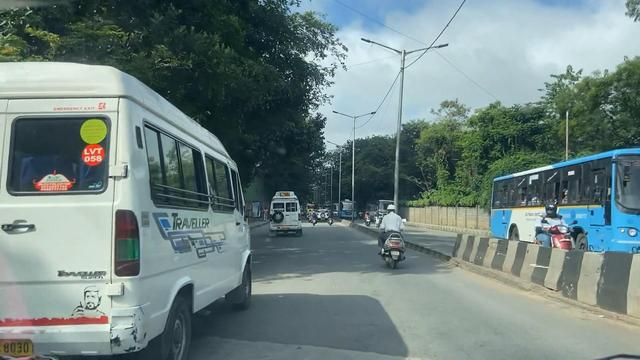HMV: (5, 63, 250, 360), (263, 189, 305, 240)
LMV: (378, 204, 411, 271)
